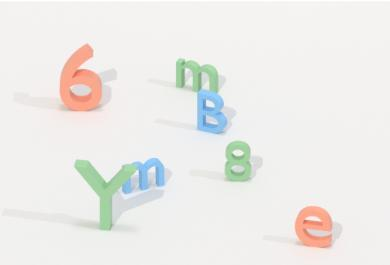6: (54, 40, 107, 118)
8: (223, 138, 255, 186)
B: (193, 87, 230, 137)
Y: (72, 160, 137, 235)
e: (292, 203, 336, 253)
m: (117, 153, 168, 197), (172, 53, 223, 96)
